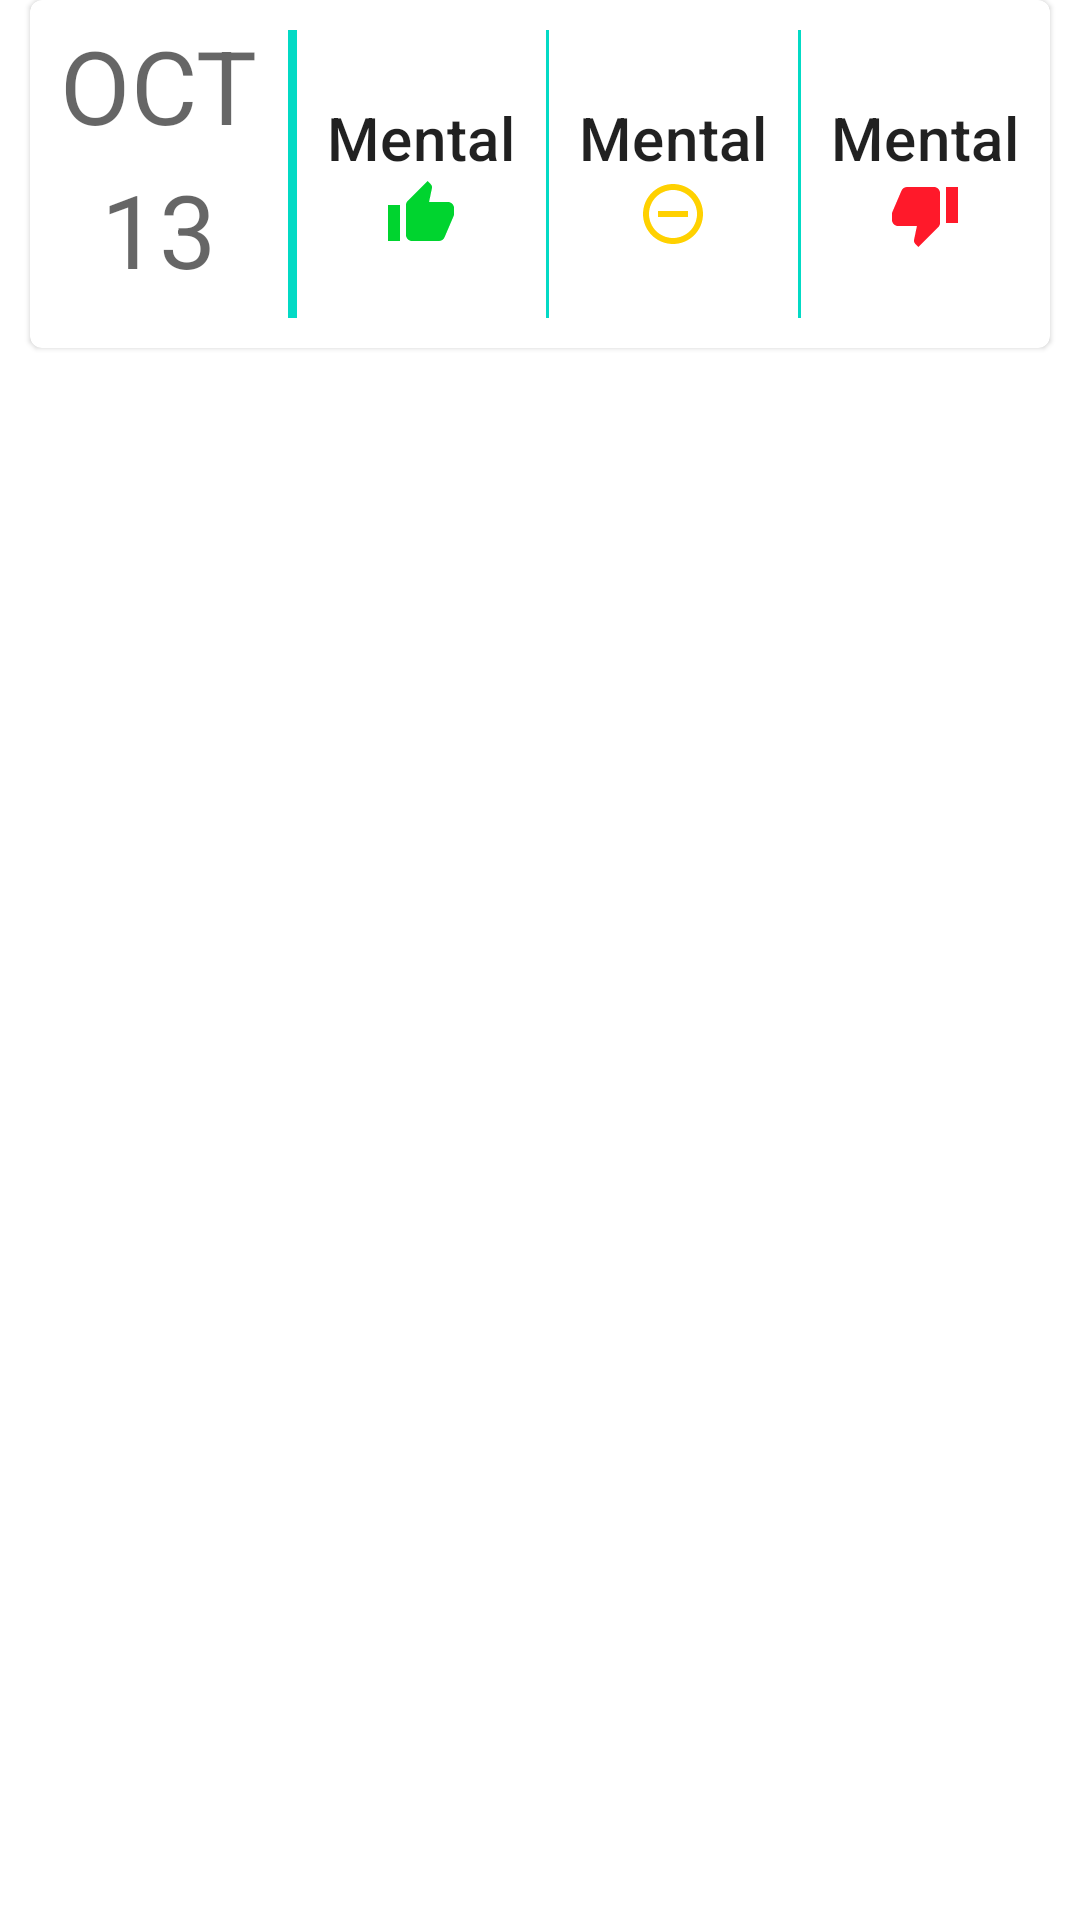

Where to tap for icons on this 1080 × 1920 app screen, as (x=x, y=y):
negative response: (x=925, y=217)
neutral response: (x=673, y=214)
positive response: (x=421, y=211)
